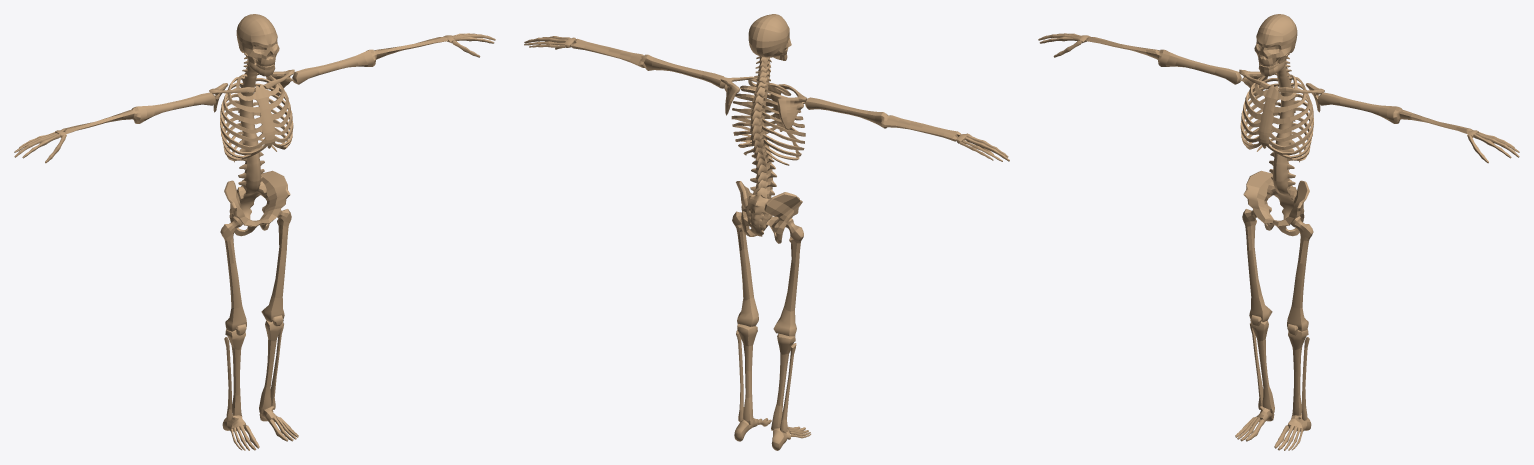
File: Tunit.fbx
The picture shows the model from 3 angles, left to right: view 1: azimuth 30°, elevation 25°; view 2: azimuth 150°, elevation 25°; view 3: azimuth 330°, elevation 25°; orthographic projection.
Parts seen in each view (by area): view 1: ribCage, spine, pelvis, skull, lt_arm, rt_arm, rt_femur, lt_femur, rt_shin, lt_shin; view 2: spine, ribCage, rt_arm, lt_arm, pelvis, skull, rt_femur, lt_shin, lt_femur, rt_shin, rt_clavicle; view 3: ribCage, spine, pelvis, skull, rt_arm, lt_arm, lt_femur, rt_femur, lt_shin, rt_shin.
Part boxes in pixels (box(x1,y1,x2,y2)): ribCage: box(220, 73, 293, 160); spine: box(232, 54, 276, 219); pelvis: box(224, 170, 290, 236); skull: box(236, 14, 279, 66); lt_arm: box(292, 37, 447, 84); rt_arm: box(61, 92, 215, 133); rt_femur: box(220, 216, 246, 331); lt_femur: box(261, 209, 291, 321); rt_shin: box(224, 329, 245, 420); lt_shin: box(259, 319, 283, 413); spine: box(743, 56, 789, 236); ribCage: box(731, 78, 805, 160); rt_arm: box(804, 97, 960, 141); lt_arm: box(570, 38, 726, 88); pelvis: box(736, 181, 802, 243); skull: box(748, 14, 791, 57); rt_femur: box(773, 218, 803, 336); lt_shin: box(736, 324, 757, 425); lt_femur: box(732, 211, 758, 326); rt_shin: box(771, 333, 796, 433); rt_clavicle: box(777, 84, 806, 130); ribCage: box(1240, 73, 1313, 160); spine: box(1257, 54, 1301, 219); pelvis: box(1243, 170, 1309, 236); skull: box(1254, 14, 1297, 66); rt_arm: box(1086, 37, 1241, 84); lt_arm: box(1318, 92, 1472, 133); lt_femur: box(1287, 216, 1313, 331); rt_femur: box(1242, 209, 1272, 321); lt_shin: box(1288, 329, 1309, 420); rt_shin: box(1250, 319, 1274, 413).
Size of the model in its own units: 5.59 by 4.63 by 0.6813.
